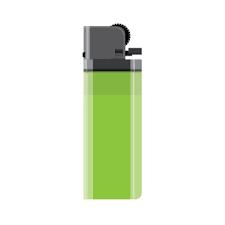lighter: (81, 24, 144, 201)
